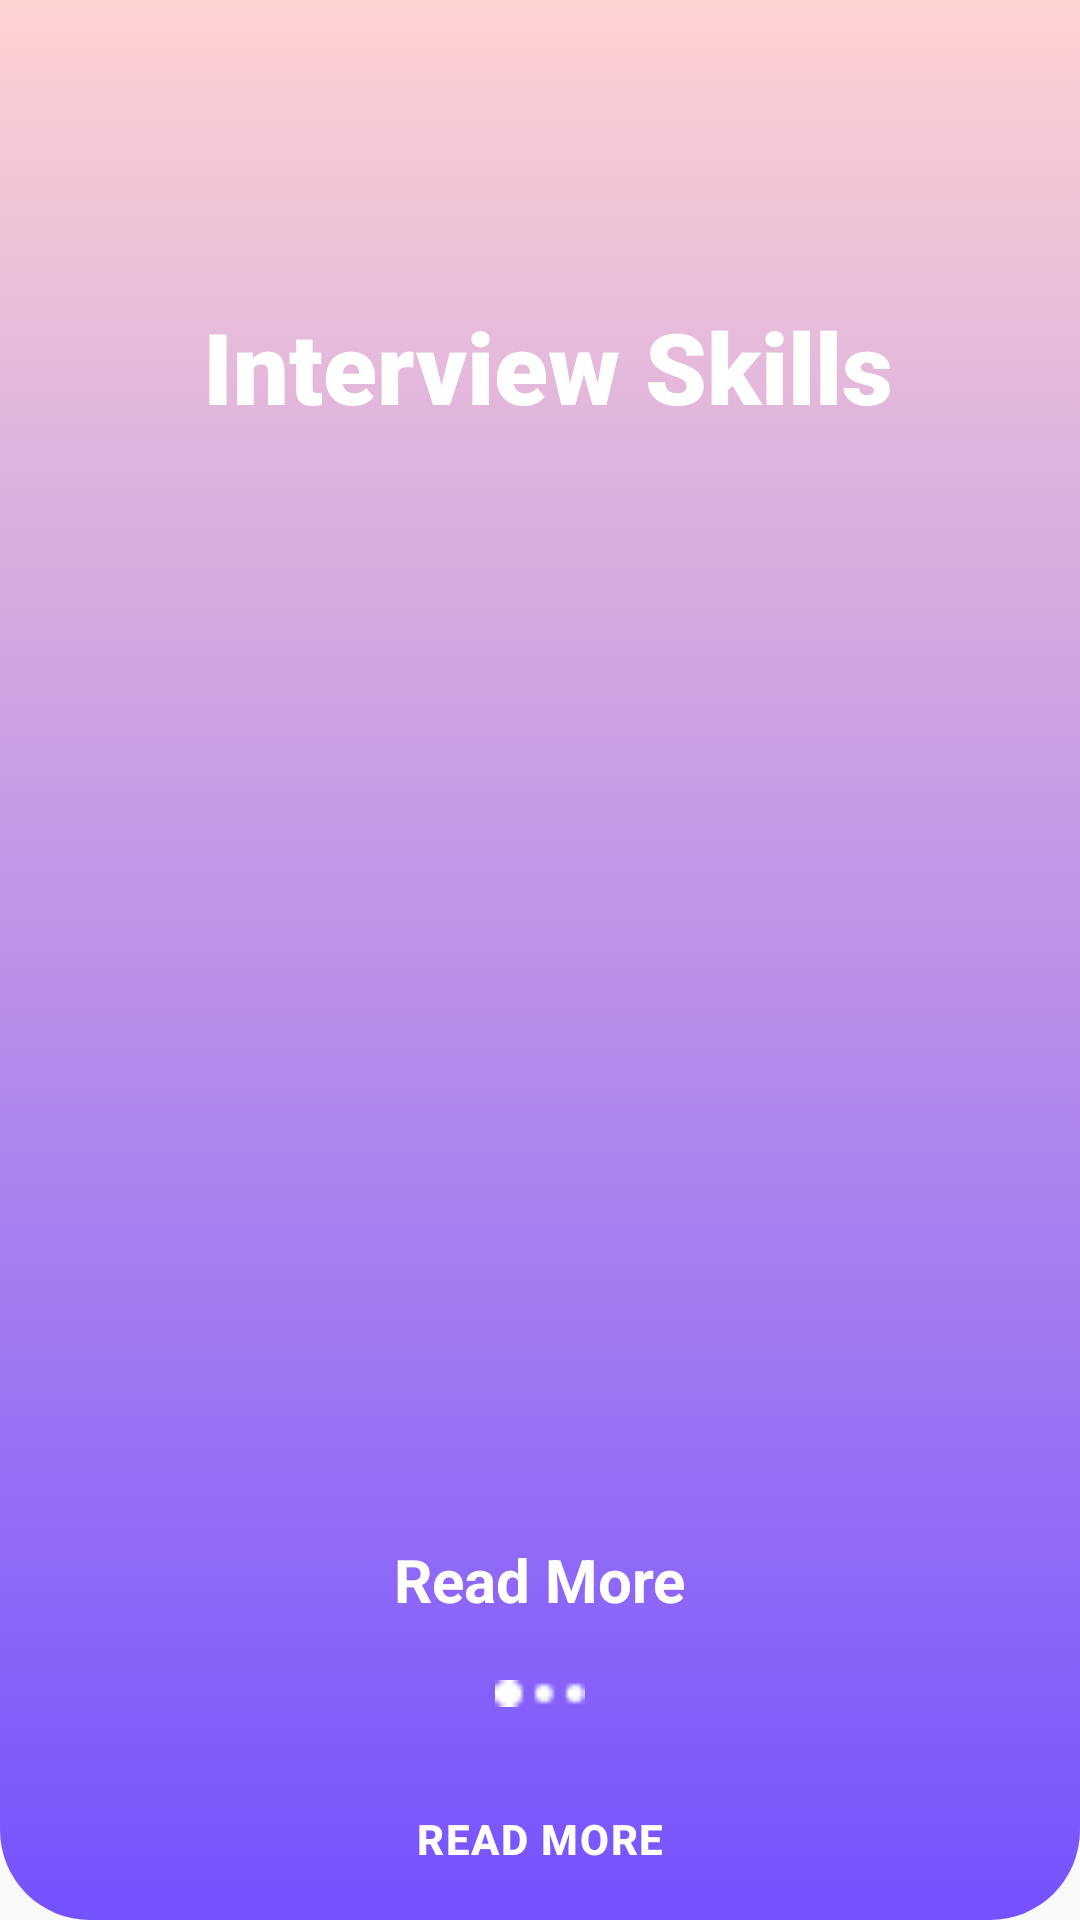

Screen size 1080 × 1920. Icon name, then its center in pixels as [x,y]:
dot: [540,1693]
